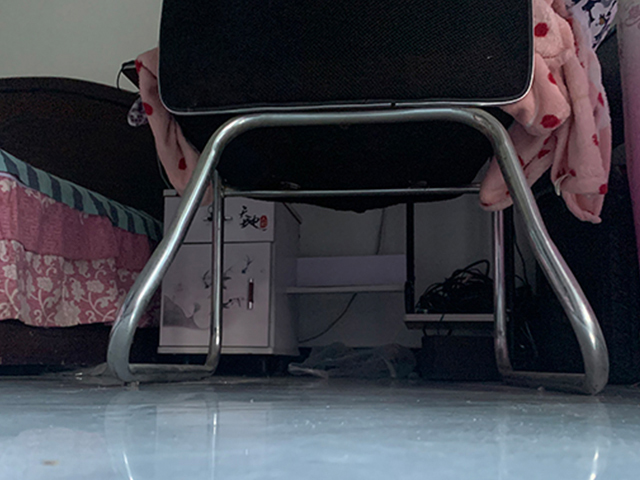bed: (1, 76, 167, 373)
cabinet: (156, 186, 299, 378)
stool: (105, 1, 611, 395)
